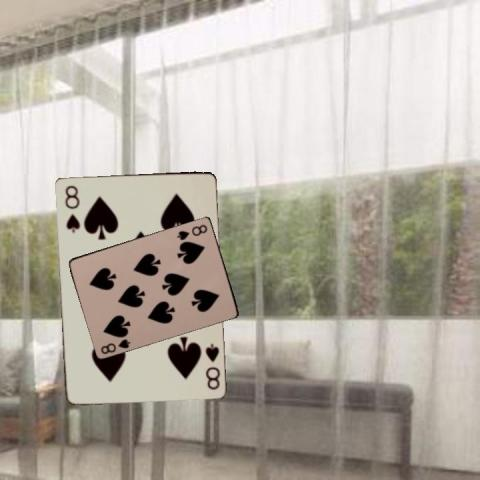8s: (61, 182, 82, 234), (202, 340, 221, 391), (174, 222, 209, 242), (98, 336, 132, 355)
